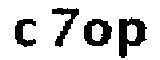7: (50, 4, 81, 51)
c: (12, 16, 38, 50)
o: (83, 17, 113, 49)
p: (115, 15, 147, 60)
